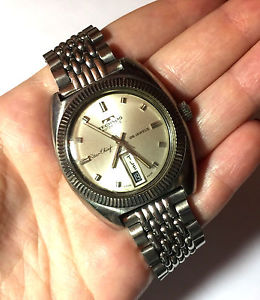clock: (56, 80, 187, 208)
